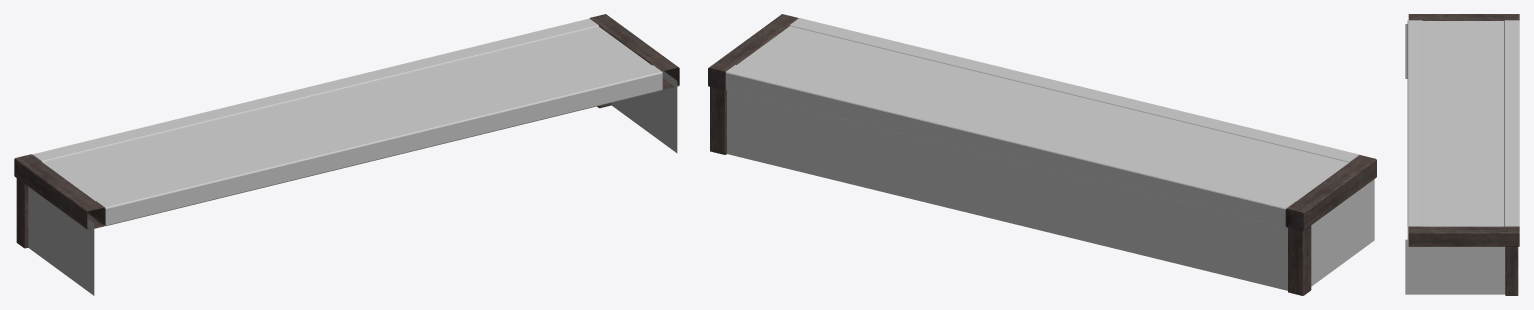
File: SM_Roof_Foundation_3.FBX
3 views of the same model, side by side, from view 1: azimuth 30°, elevation 25°; view 2: azimuth 150°, elevation 25°; view 3: azimuth 270°, elevation 25° (orthographic). The views are drawn at different scales.
Parts seen in each view (by area): view 1: SM_Roof_Foundation_3; view 2: SM_Roof_Foundation_3; view 3: SM_Roof_Foundation_3.
Part boxes in pixels (x1,y1,x2,y2): SM_Roof_Foundation_3: [14, 14, 679, 295]; SM_Roof_Foundation_3: [708, 14, 1376, 295]; SM_Roof_Foundation_3: [1405, 14, 1519, 295].
Size of the model in its own units: 810 by 109 by 178.
